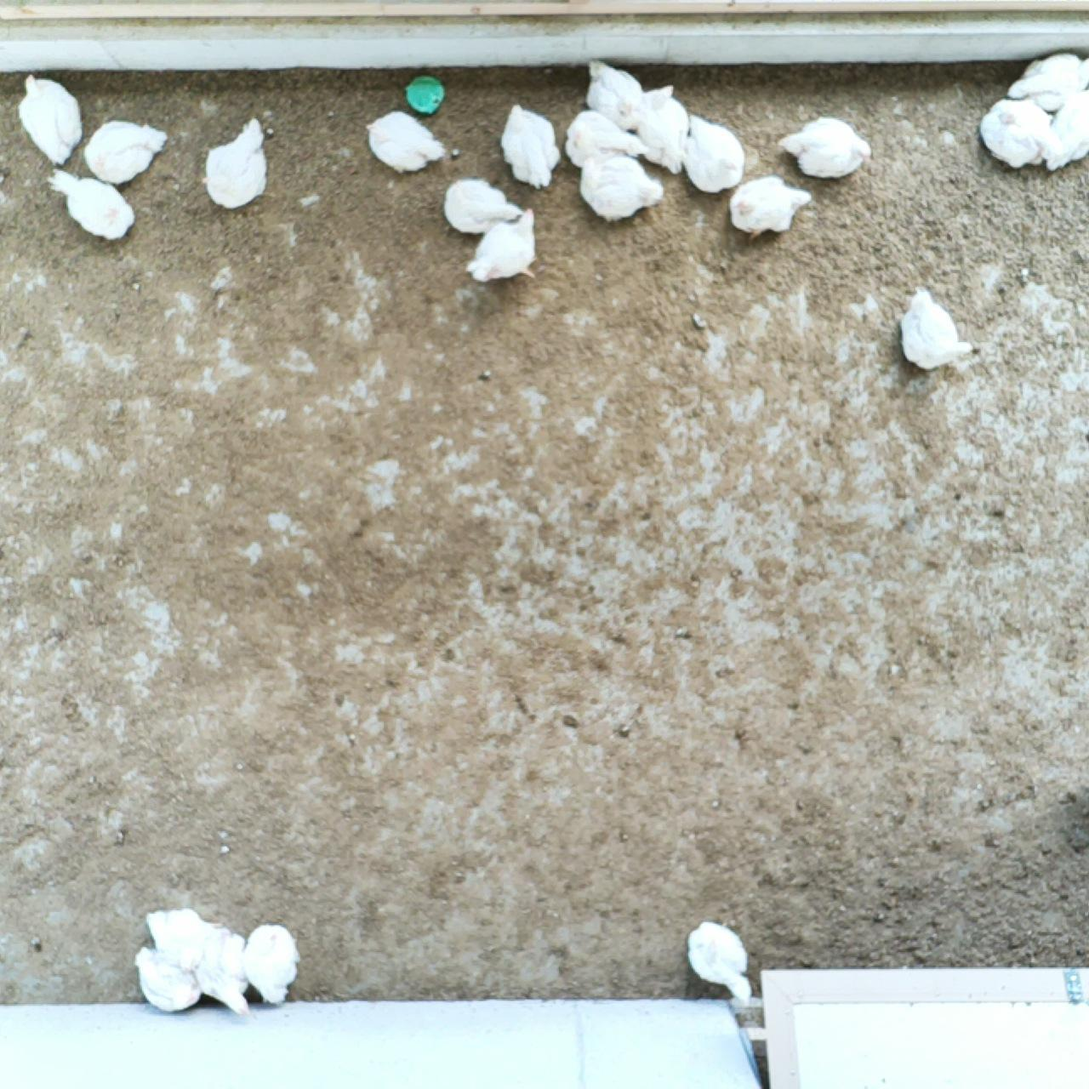chicken: (896, 283, 975, 375), (44, 168, 136, 244), (777, 114, 874, 184), (200, 114, 269, 210), (464, 205, 546, 285), (17, 70, 83, 169), (579, 152, 669, 224), (84, 117, 170, 189), (686, 918, 753, 1009), (726, 173, 814, 242), (975, 95, 1055, 169), (194, 921, 254, 1018), (362, 109, 446, 178), (499, 102, 563, 192), (564, 108, 651, 171), (682, 112, 747, 195), (1006, 50, 1089, 114), (242, 921, 302, 1007), (439, 177, 522, 238), (131, 944, 203, 1014), (636, 83, 691, 174), (584, 57, 649, 131), (144, 905, 213, 974), (1041, 87, 1089, 175)
